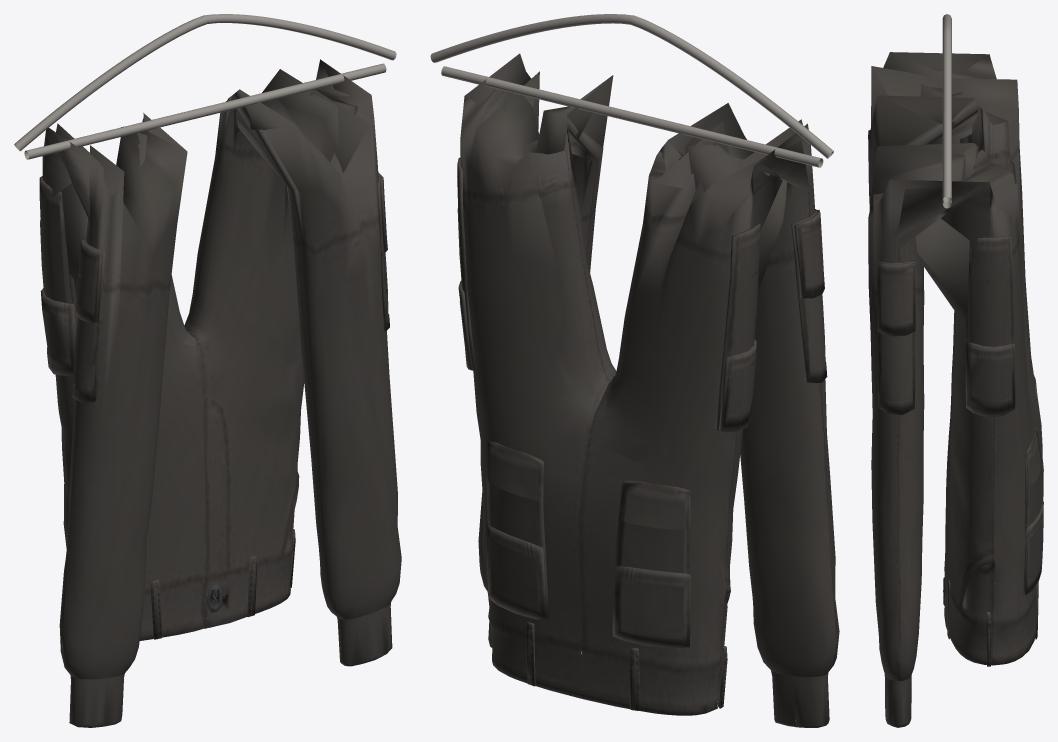
File: pants_black.glb
3 renders of one model, left to right at view 1: azimuth 30°, elevation 25°; view 2: azimuth 150°, elevation 25°; view 3: azimuth 270°, elevation 25°, orthographic. The views are drawn at different scales.
Parts seen in each view (by area): view 1: pants_black_cloth, pants_black_hanger; view 2: pants_black_cloth, pants_black_hanger; view 3: pants_black_cloth, pants_black_hanger.
Boxes of the visible parts, x1,y1,x2,y2 form: pants_black_cloth: [39, 59, 401, 727]; pants_black_hanger: [14, 14, 396, 159]; pants_black_cloth: [457, 53, 839, 727]; pants_black_hanger: [430, 14, 833, 167]; pants_black_cloth: [868, 52, 1043, 727]; pants_black_hanger: [942, 14, 951, 208].
Size of the model in its own units: 0.364 by 0.602 by 0.1521.
2 materials, 1 textured.
